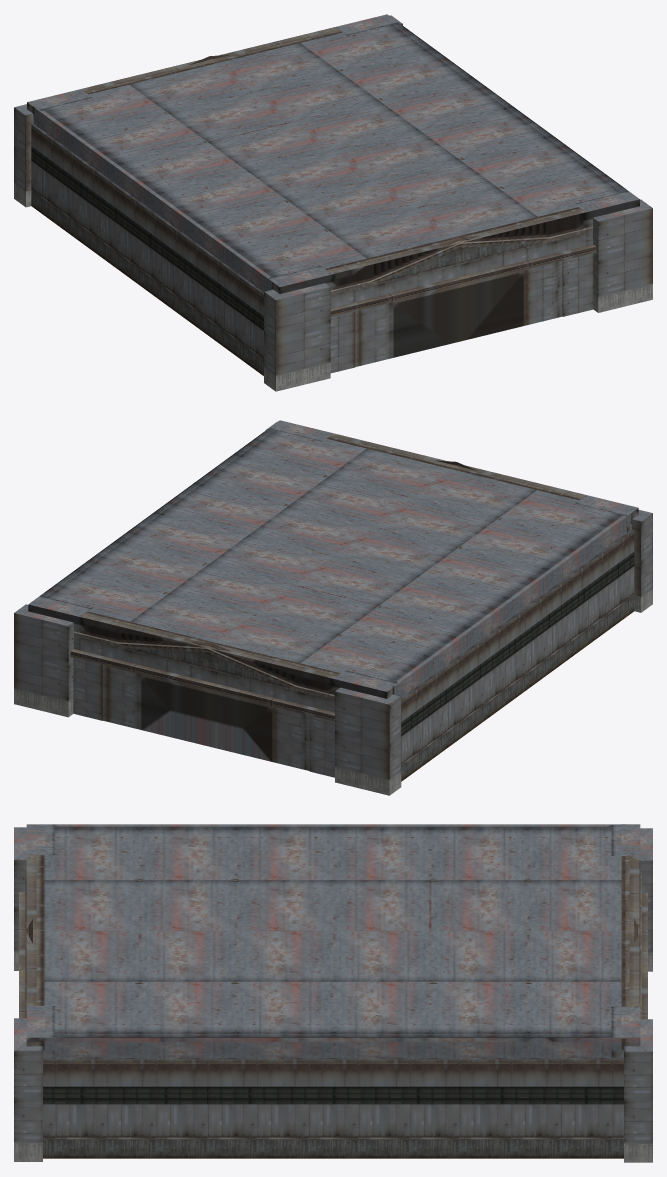
Rendered from dz_industrial_09.fbx.
3 renders of one model, top to bottom at view 1: azimuth 30°, elevation 25°; view 2: azimuth 150°, elevation 25°; view 3: azimuth 270°, elevation 25°, orthographic. The views are drawn at different scales.
Parts seen in each view (by area): view 1: dz_industrial_09_LOD0; view 2: dz_industrial_09_LOD0; view 3: dz_industrial_09_LOD0.
Part boxes in pixels (x1,y1,x2,y2): dz_industrial_09_LOD0: (14, 14, 652, 391); dz_industrial_09_LOD0: (14, 420, 652, 795); dz_industrial_09_LOD0: (14, 824, 652, 1162).
Size of what is drawn, in the model's own units: 49.78 by 12.89 by 59.96.
2 materials, 2 textured.
